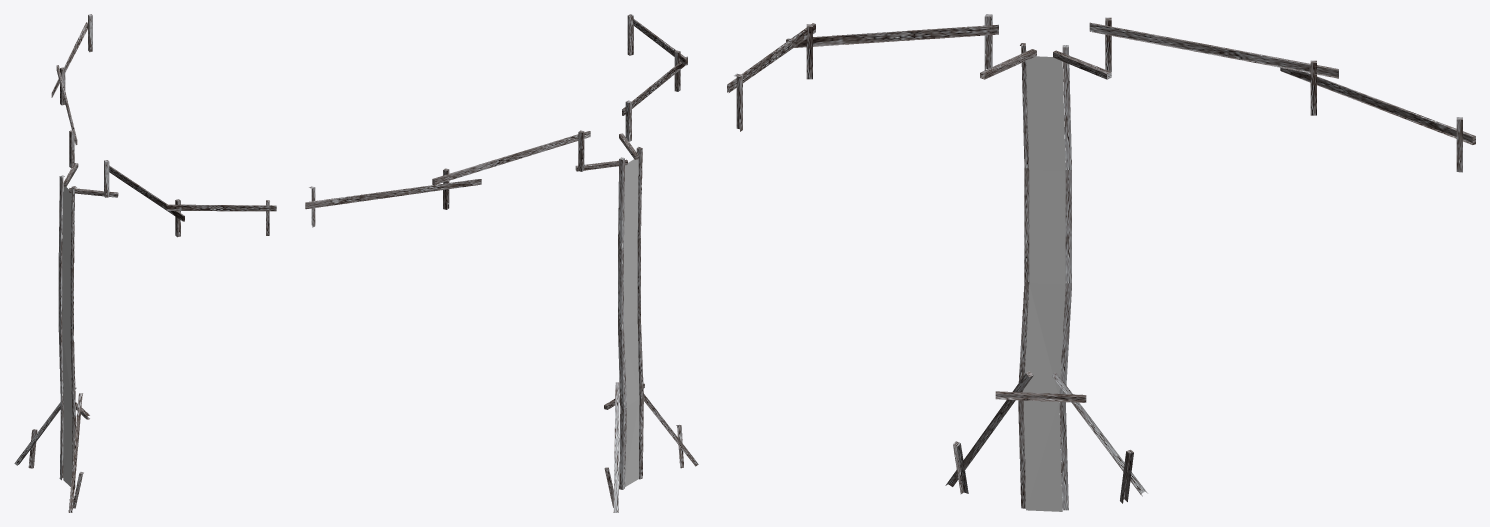
3 renders of one model, left to right at view 1: azimuth 30°, elevation 25°; view 2: azimuth 150°, elevation 25°; view 3: azimuth 270°, elevation 25°, orthographic. The views are drawn at different scales.
Parts seen in each view (by area): view 1: mesh00; view 2: mesh00; view 3: mesh00.
Boxes of the visible parts, x1,y1,x2,y2 form: mesh00: (14,14,276,512); mesh00: (305,14,698,512); mesh00: (727,14,1475,511).
Bounding box in the file's own units: 539 × 899 × 1195.
